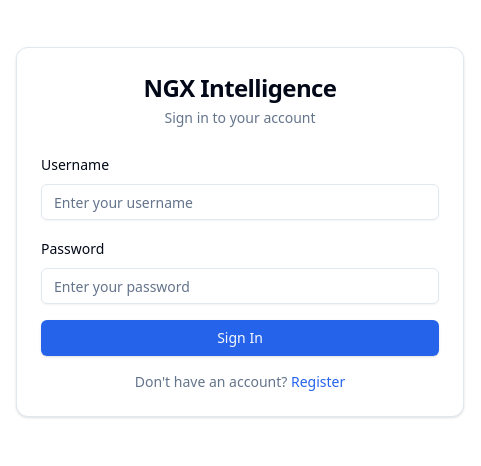
Test: LoginPage › displays generic error on network failure
Type "testuser" into the field labelled "Username" at (240, 202), box [41,184,439,220]
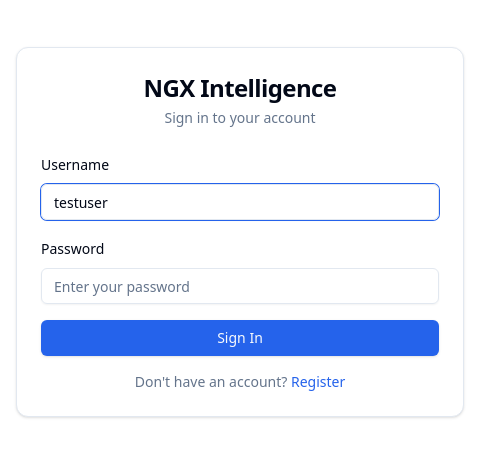
Type "password123" into the password field labelled "Password" at (240, 286), box [41,268,439,304]
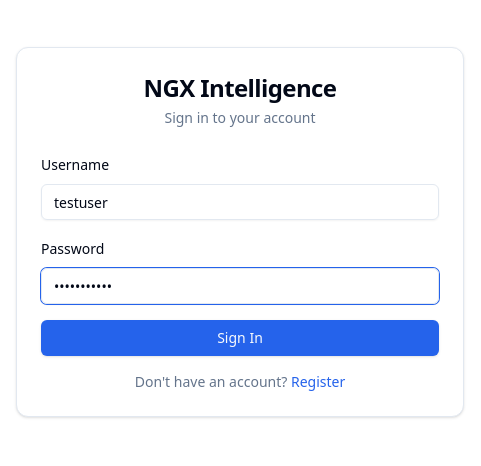
Click the button "Sign In" at (240, 338), box [41,320,439,356]
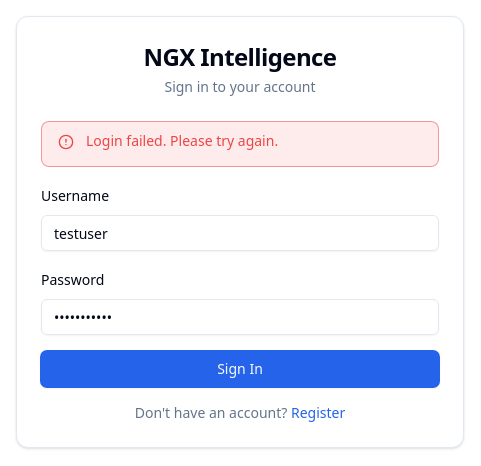
Expected: the text "Login failed. Please try again." is shown, [86,131,278,150]
